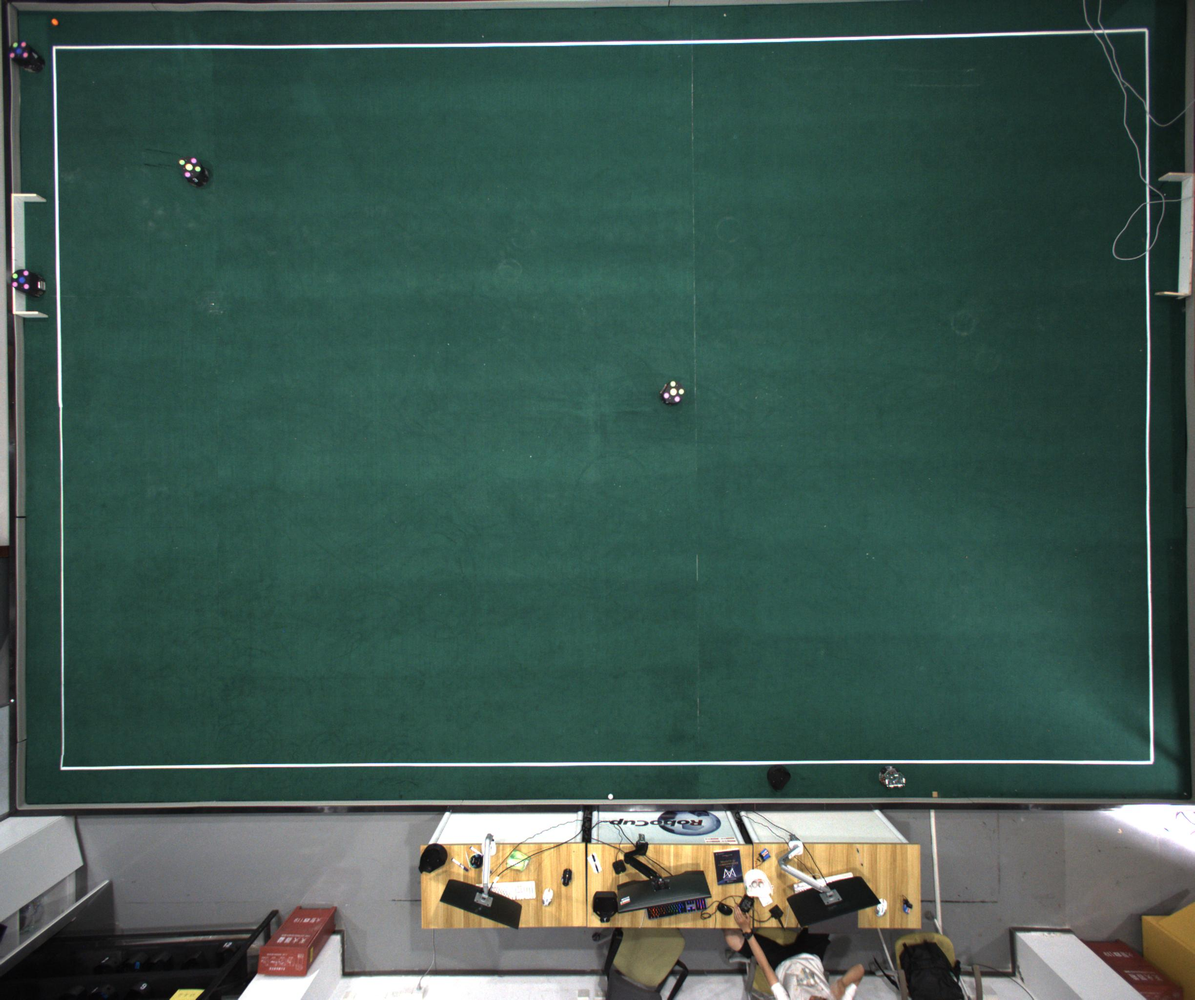ball: (51, 18, 58, 26)
blue_bot: (11, 269, 32, 290), (9, 41, 30, 61)
yellow_bot: (664, 380, 685, 403), (178, 157, 201, 178)
